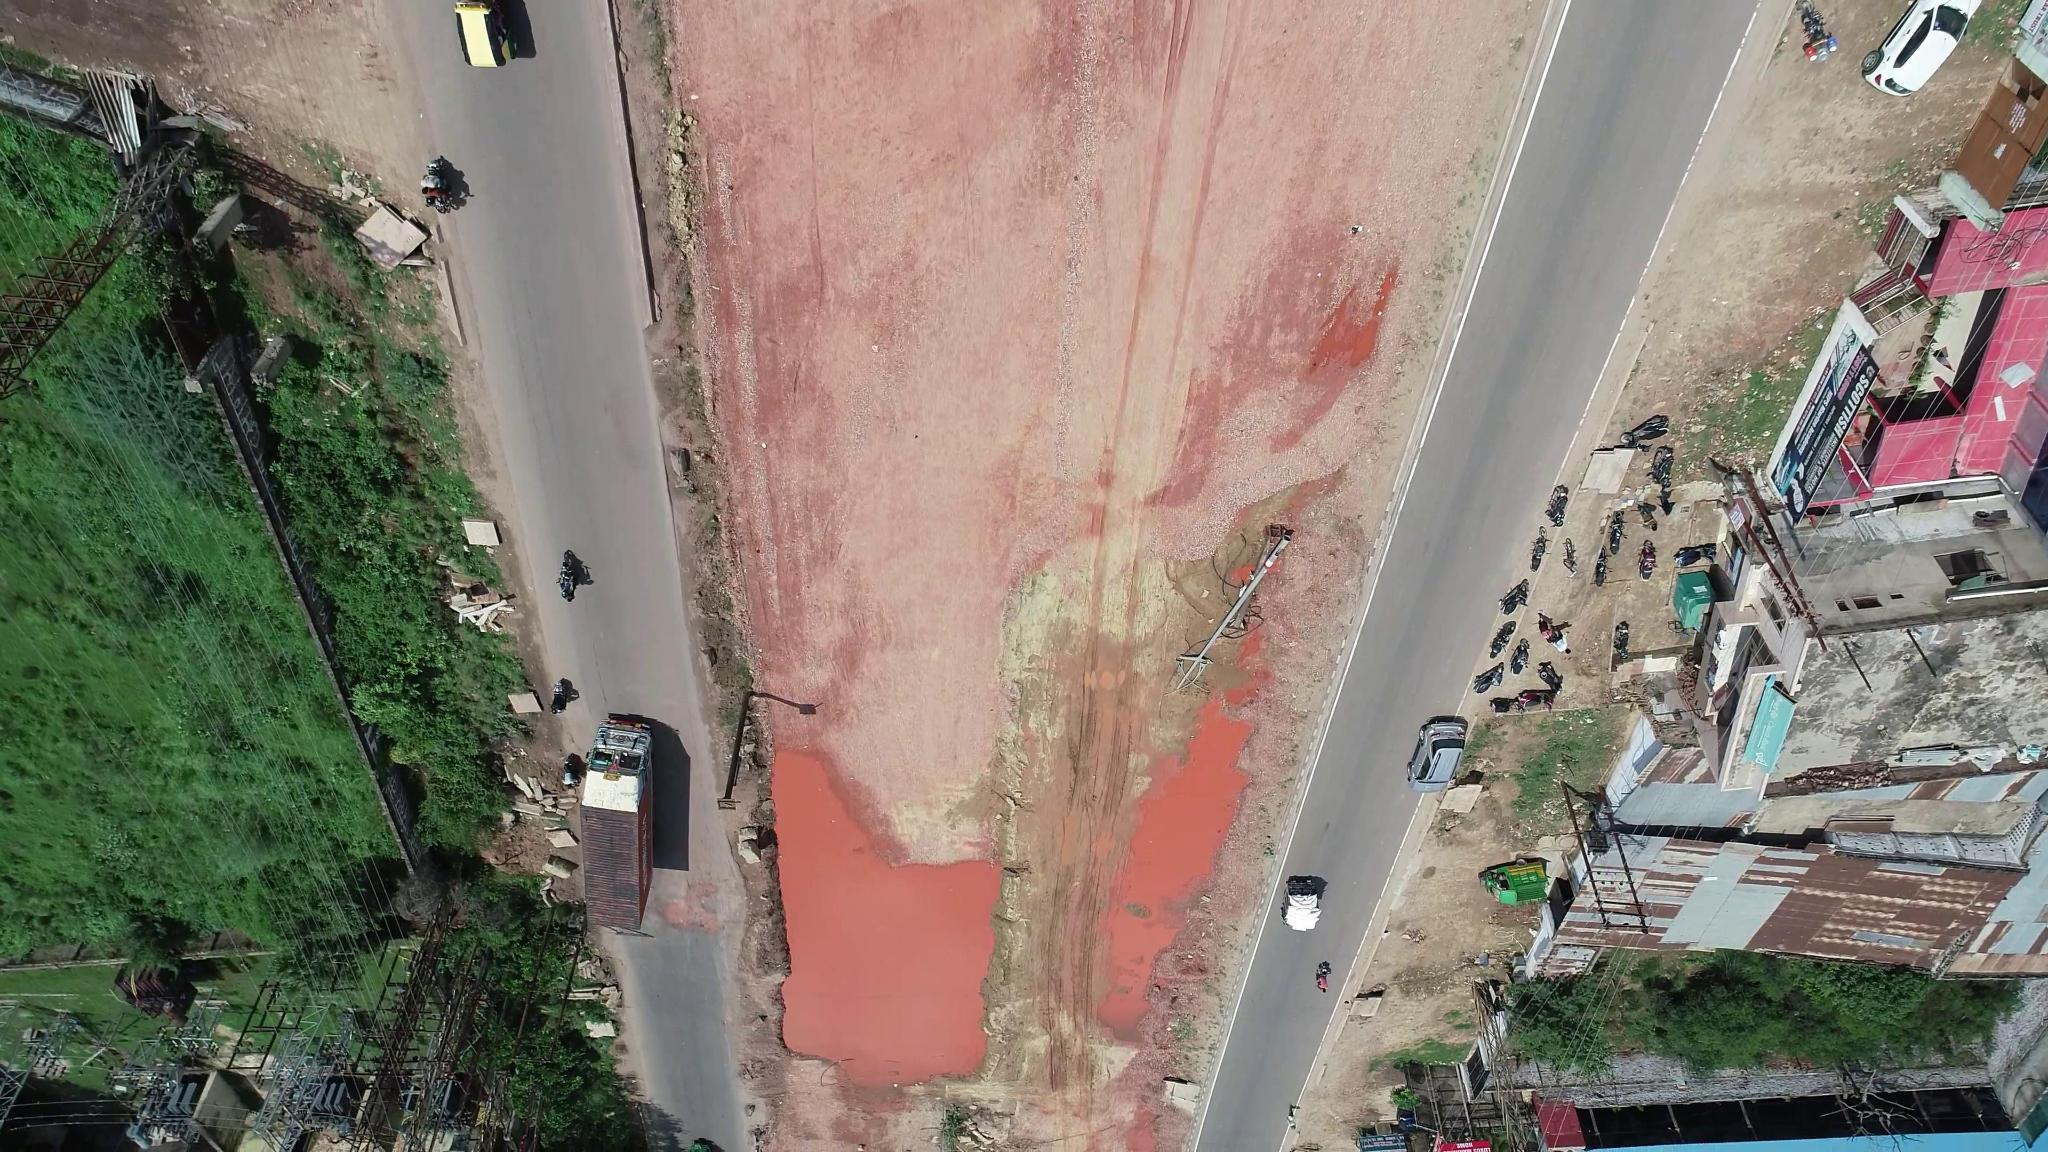Potholes: (657, 881, 731, 961)
